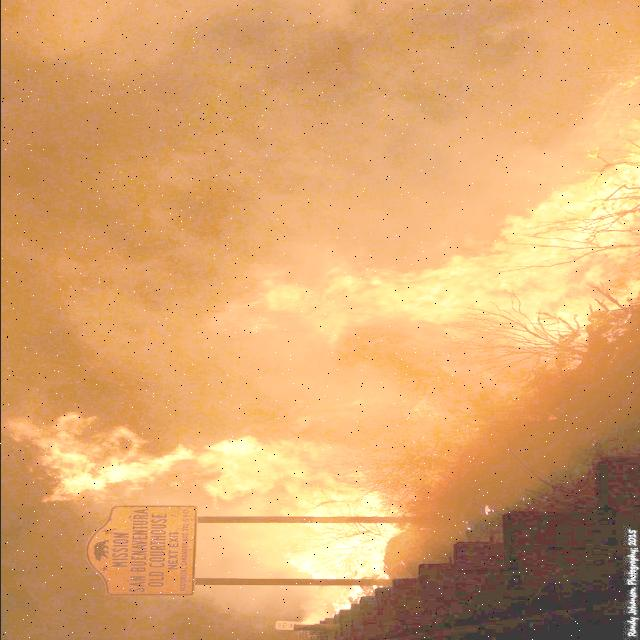api: (191, 156, 640, 364), (1, 409, 400, 509), (274, 484, 414, 624)
